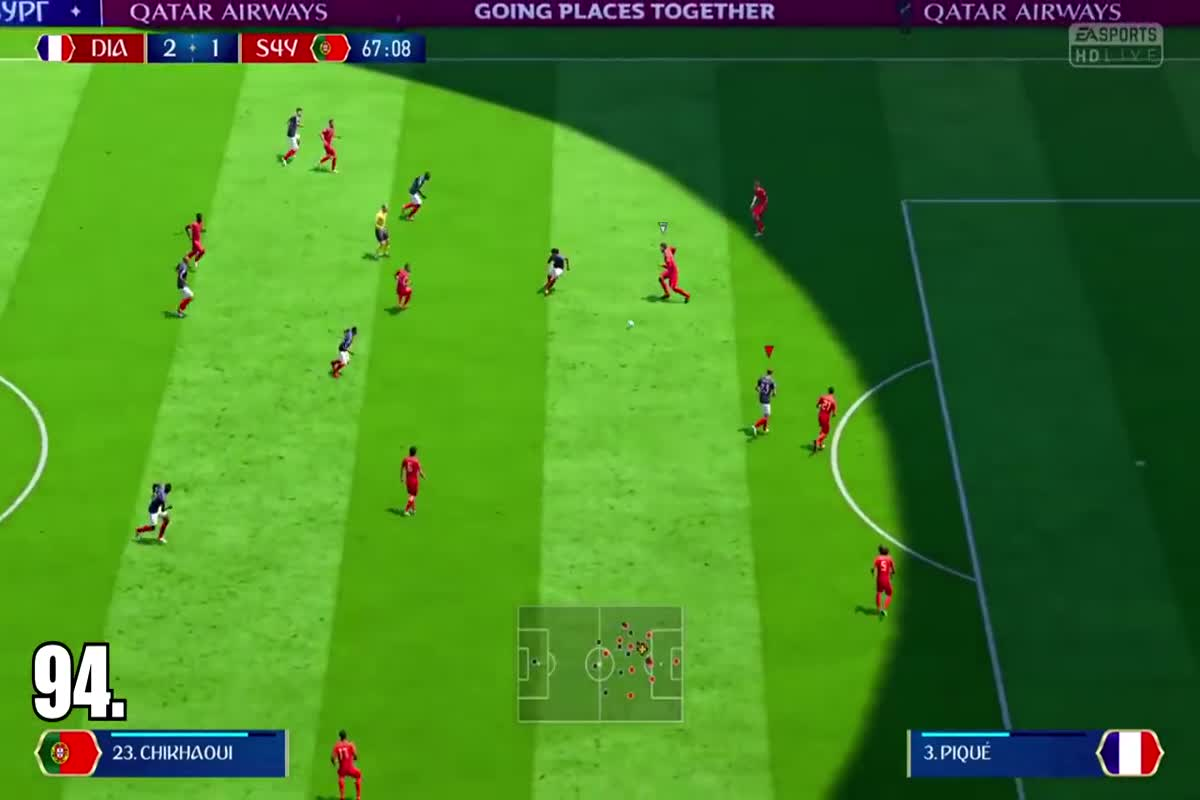ball: (616, 312, 646, 334)
